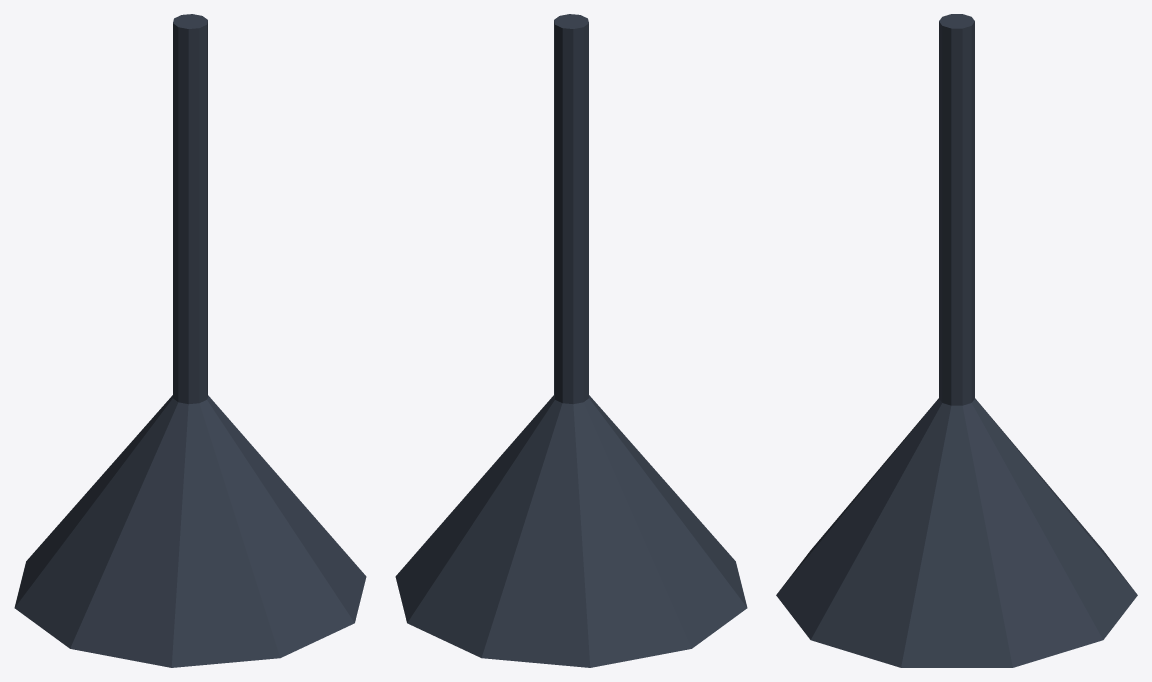
File: Boxing_Spotlight.fbx
3 renders of one model, left to right at view 1: azimuth 30°, elevation 25°; view 2: azimuth 150°, elevation 25°; view 3: azimuth 270°, elevation 25°, orthographic.
Parts seen in each view (by area): view 1: Spotlight; view 2: Spotlight; view 3: Spotlight.
Part boxes in pixels (bbox=[...]): Spotlight: bbox=[14, 14, 366, 667]; Spotlight: bbox=[395, 14, 747, 667]; Spotlight: bbox=[776, 14, 1137, 667].
Size of the model in its own units: 0.5706 by 1.14 by 0.6.
